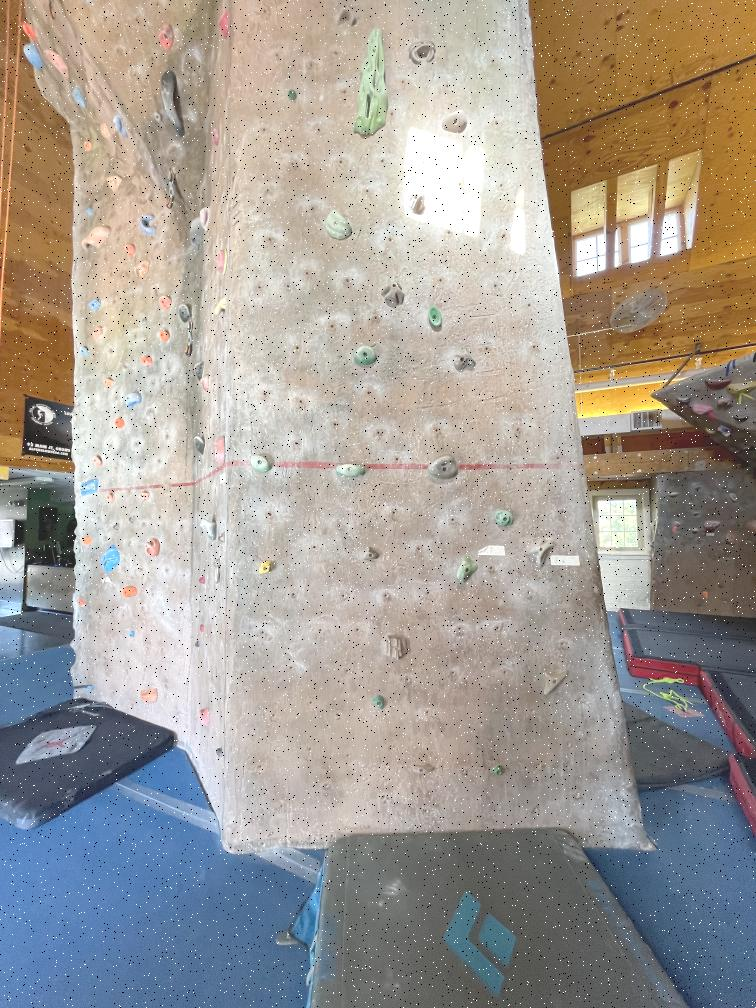Crimp: (324, 203, 356, 243), (131, 259, 152, 280), (704, 379, 732, 390), (90, 326, 105, 341), (122, 242, 136, 258), (81, 138, 96, 152), (76, 597, 90, 609), (733, 415, 749, 422), (691, 528, 699, 534), (649, 541, 655, 548), (722, 427, 730, 432), (722, 433, 730, 437), (717, 427, 721, 432)
Edges: (351, 24, 393, 145), (522, 539, 559, 570), (101, 543, 121, 574), (76, 476, 103, 498), (726, 382, 756, 396), (691, 403, 713, 416)
Foothold: (538, 667, 576, 704), (372, 632, 413, 666), (255, 558, 279, 580), (488, 763, 508, 783), (368, 693, 389, 712), (358, 545, 380, 563), (194, 707, 210, 730), (138, 688, 160, 704), (285, 86, 301, 103), (124, 628, 137, 640), (83, 681, 95, 693), (84, 205, 96, 217), (214, 746, 224, 760), (197, 619, 206, 633), (197, 575, 207, 587), (192, 640, 202, 649), (702, 590, 708, 600), (718, 584, 725, 588), (697, 603, 703, 607), (661, 580, 666, 584), (650, 553, 654, 558)
Jug: (159, 67, 188, 135), (424, 449, 462, 484), (453, 553, 483, 589), (79, 224, 114, 251), (439, 108, 470, 136), (44, 49, 70, 82), (351, 344, 382, 371), (405, 188, 430, 219), (246, 452, 274, 474), (198, 515, 217, 542), (493, 508, 517, 529), (190, 431, 208, 458), (103, 174, 126, 194), (210, 296, 230, 318), (217, 10, 230, 41), (138, 214, 157, 235), (71, 86, 87, 110), (174, 301, 194, 320), (156, 293, 175, 311), (22, 21, 38, 42), (191, 359, 206, 381), (86, 297, 102, 315), (158, 328, 174, 344), (199, 373, 212, 392), (100, 375, 116, 390), (725, 528, 737, 546), (717, 397, 734, 408), (79, 344, 90, 359), (748, 519, 756, 536), (676, 397, 691, 405), (704, 427, 716, 435), (669, 491, 679, 499), (743, 446, 756, 452), (674, 520, 682, 527)
Pinch: (380, 278, 406, 312), (330, 462, 376, 480), (152, 23, 180, 52), (452, 347, 476, 373), (333, 1, 357, 26), (428, 305, 450, 332), (111, 113, 130, 141), (142, 533, 163, 558), (198, 203, 212, 234), (121, 390, 145, 408), (138, 355, 156, 369), (110, 417, 128, 431), (121, 585, 139, 598), (136, 488, 154, 500), (104, 493, 119, 505), (90, 454, 106, 465), (82, 534, 96, 546), (649, 522, 658, 534), (730, 493, 738, 504)
Pocket: (406, 38, 438, 68), (214, 244, 232, 278)
Sloper: (22, 42, 44, 72), (703, 520, 720, 533), (210, 128, 221, 146)
